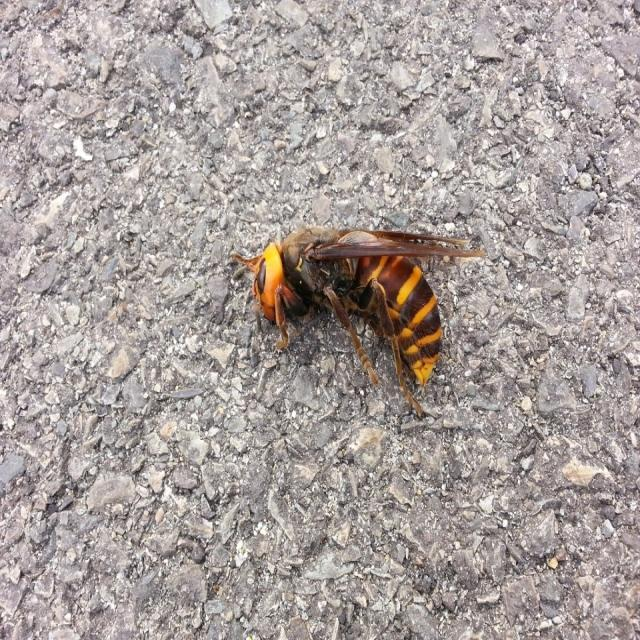Wasp: (239, 189, 457, 426)
